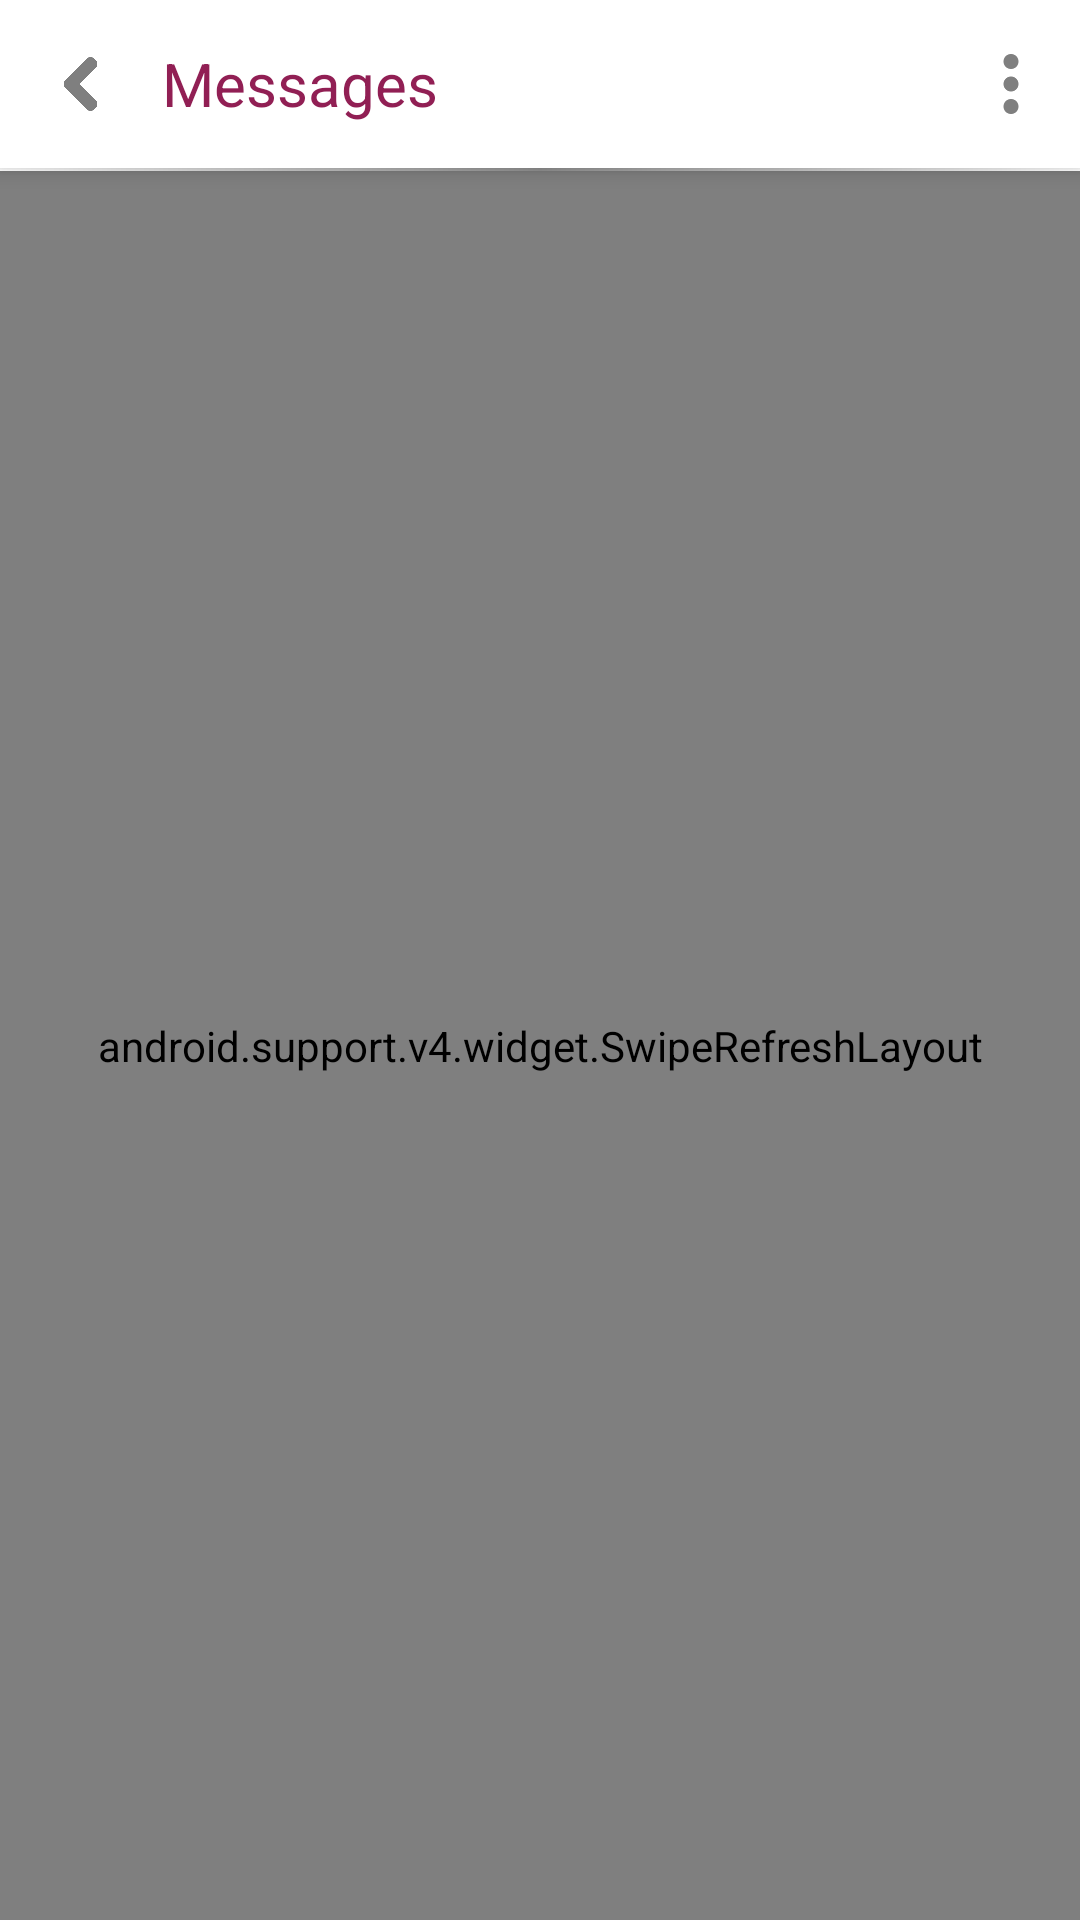

Icons on this 1080px×1920px Android screen, each with the point to tap as point (x, y):
arrow left: point (80, 84)
more vert: point (1011, 84)
